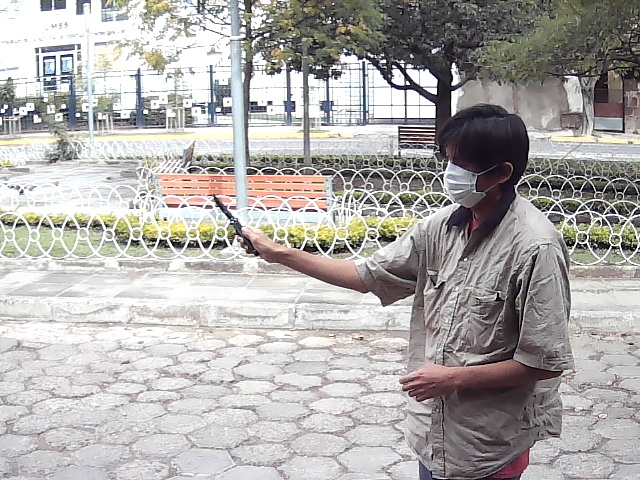cuchillo: (202, 189, 278, 266)
